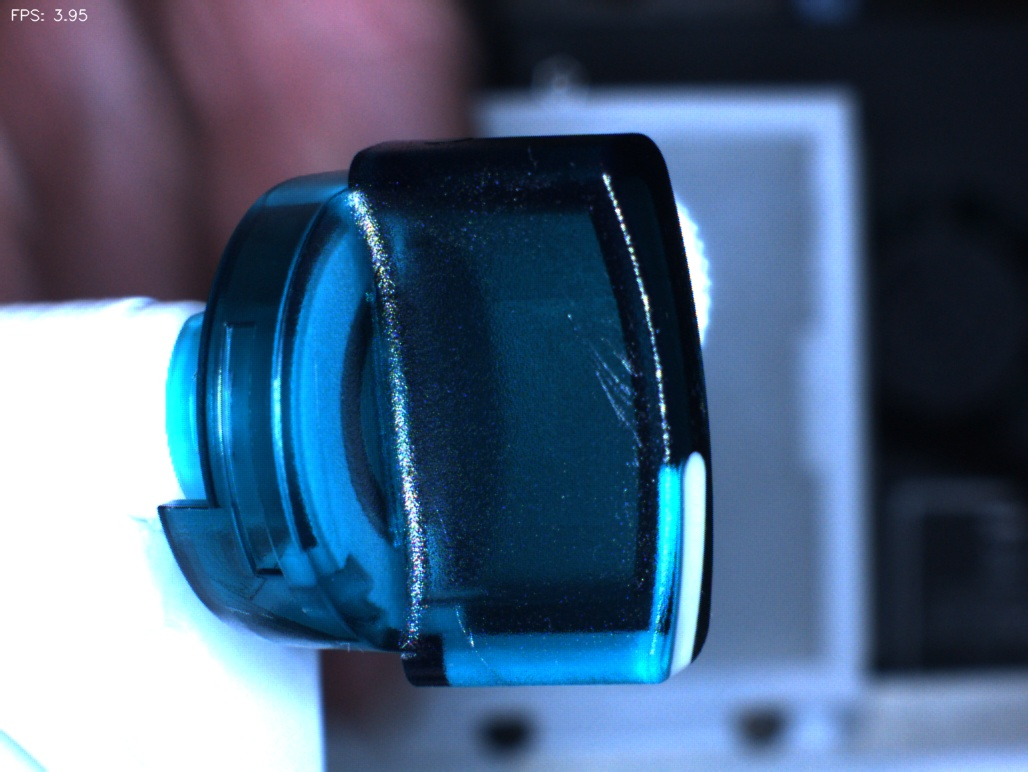Givrage: (559, 300, 662, 489)
